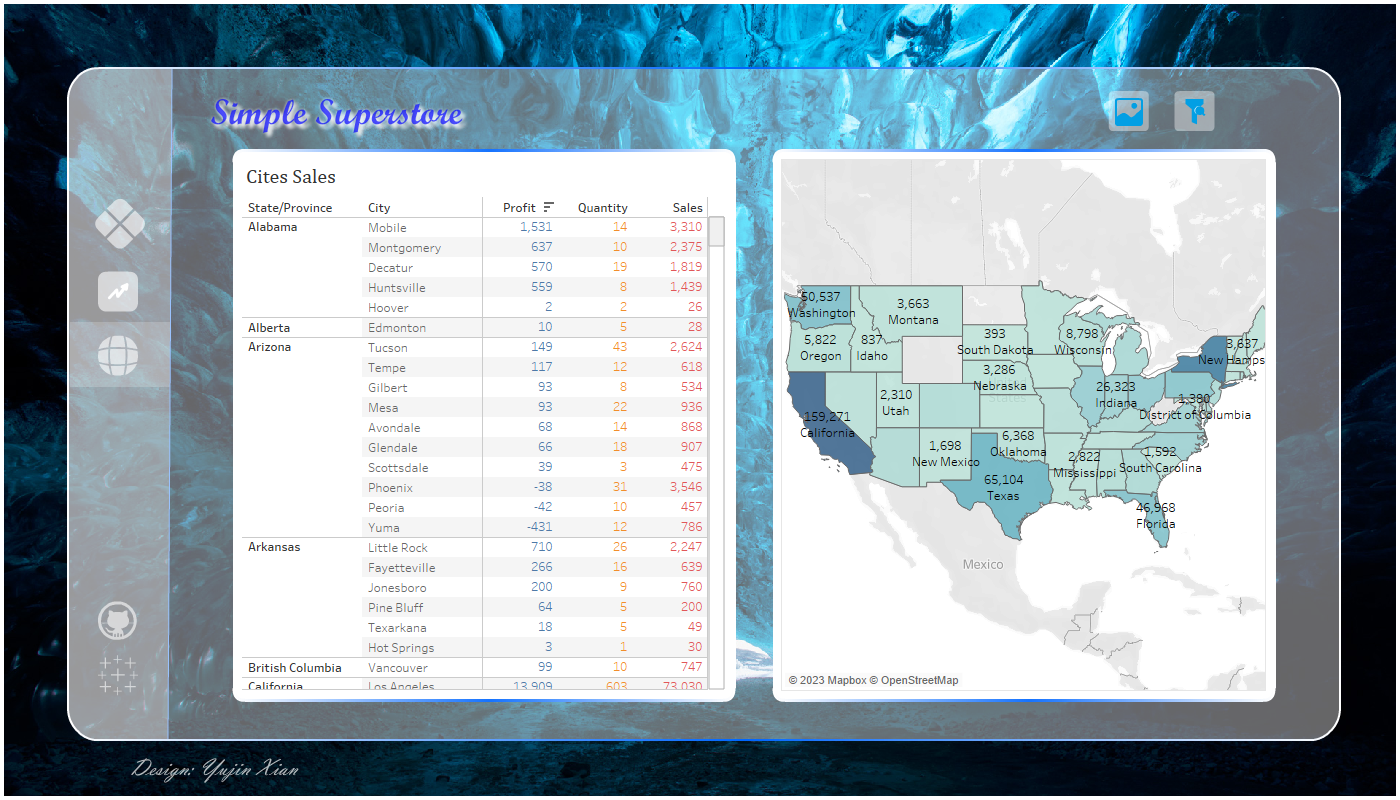

What the dashboard file says about the page in this screenshot:
{"tool":"tableau","page":{"name":"Regional Analysis","canvas":[1400,800],"ordinal":1},"visuals":[{"type":"image","param":"E:/My Study/tableau/dashboard/Regional Analysis.png","box":[0,0,1400,800]},{"type":"dashboard-object","box":[1179,96,30,30]},{"type":"dashboard-object","box":[1114,97,30,30]},{"type":"worksheet","title":"Cites Sales","mark":"Automatic","rows":["State/Province","City"],"box":[238,154,491,540]},{"type":"worksheet","title":"Gographic Anaysis","mark":"Multipolygon","box":[777,155,493,540]},{"type":"dashboard-object","box":[70,191,100,63]},{"type":"dashboard-object","box":[70,257,100,63]},{"type":"dashboard-object","box":[70,323,100,63]},{"type":"image","param":"E:/My Study/tableau/dashboard/Transpert.png","box":[70,596,100,50]},{"type":"image","param":"E:/My Study/tableau/dashboard/Transpert.png","box":[70,650,100,50]}]}

Visuals, with their boxes on the page's 1400x800 design canvas (x1, y1, x2, y2). These are canvas units, not pixel positions in the 1400x800 screenshot, which may show the page scaled, cropped or inside an application window:
image: {"left": 0, "top": 0, "right": 1400, "bottom": 800}
dashboard-object: {"left": 1179, "top": 96, "right": 1209, "bottom": 126}
dashboard-object: {"left": 1114, "top": 97, "right": 1144, "bottom": 127}
"Cites Sales" worksheet: {"left": 238, "top": 154, "right": 729, "bottom": 694}
"Gographic Anaysis" worksheet (Multipolygon marks): {"left": 777, "top": 155, "right": 1270, "bottom": 695}
dashboard-object: {"left": 70, "top": 191, "right": 170, "bottom": 254}
dashboard-object: {"left": 70, "top": 257, "right": 170, "bottom": 320}
dashboard-object: {"left": 70, "top": 323, "right": 170, "bottom": 386}
image: {"left": 70, "top": 596, "right": 170, "bottom": 646}
image: {"left": 70, "top": 650, "right": 170, "bottom": 700}
